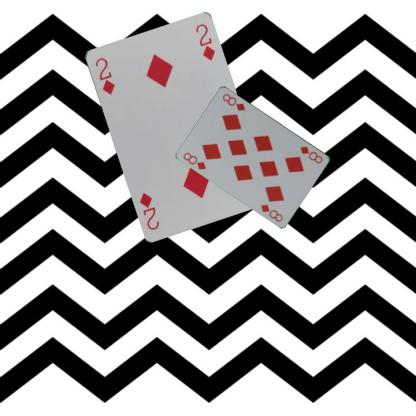2d: (93, 55, 116, 96)
8d: (298, 143, 324, 165), (181, 150, 207, 171)
